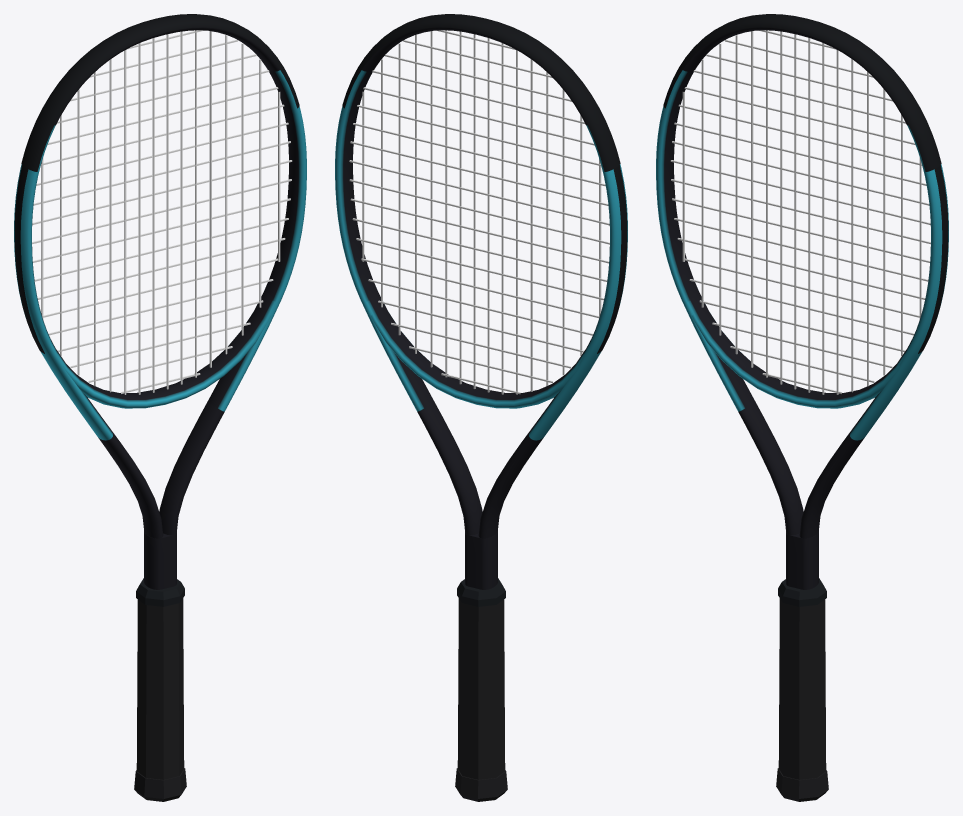
The model's file is head-gravity-tour-2025.glb.
3 views of the same model, side by side, from view 1: azimuth 30°, elevation 25°; view 2: azimuth 150°, elevation 25°; view 3: azimuth 330°, elevation 25° (orthographic).
Parts seen in each view (by area): view 1: frame, strings_mains, strings_crosses, grip, bumper, grommets, butt_cap, collar; view 2: frame, strings_mains, strings_crosses, grip, bumper, grommets, butt_cap, collar; view 3: frame, strings_mains, strings_crosses, grip, bumper, grommets, butt_cap, collar.
Part boxes in pixels (box(x1,y1,x2,y2)): frame: box(14, 27, 306, 589); strings_mains: box(41, 30, 280, 394); strings_crosses: box(32, 30, 292, 393); grip: box(136, 598, 184, 779); bumper: box(21, 14, 299, 171); grommets: box(14, 165, 44, 353); butt_cap: box(134, 768, 186, 801); collar: box(136, 578, 184, 606); frame: box(335, 27, 627, 589); strings_mains: box(362, 30, 601, 394); strings_crosses: box(349, 30, 609, 394); grip: box(457, 598, 505, 779); bumper: box(342, 14, 620, 171); grommets: box(597, 165, 627, 353); butt_cap: box(455, 768, 507, 801); collar: box(457, 578, 505, 606); frame: box(656, 27, 948, 589); strings_mains: box(682, 30, 921, 394); strings_crosses: box(670, 30, 930, 393); grip: box(778, 598, 826, 779); bumper: box(663, 14, 941, 171); grommets: box(918, 165, 948, 353); butt_cap: box(776, 768, 828, 801); collar: box(778, 578, 826, 606).
Size of the model in its own units: 0.2672 by 0.6861 by 0.0396.
